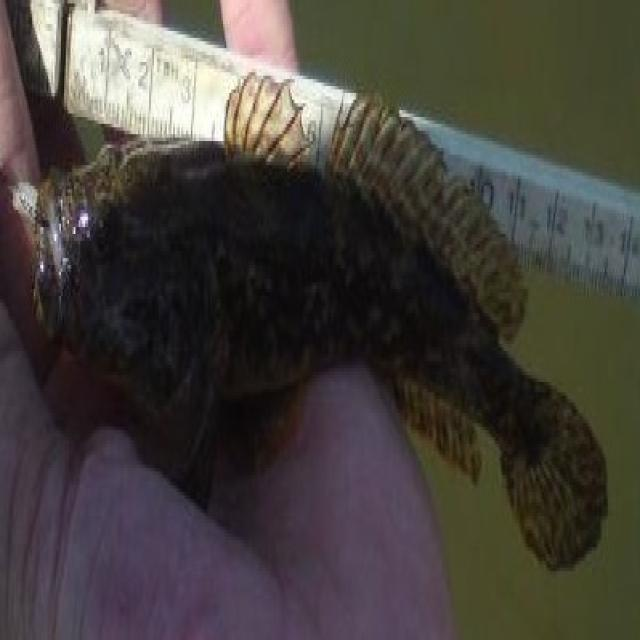Goby: (14, 69, 625, 636)
